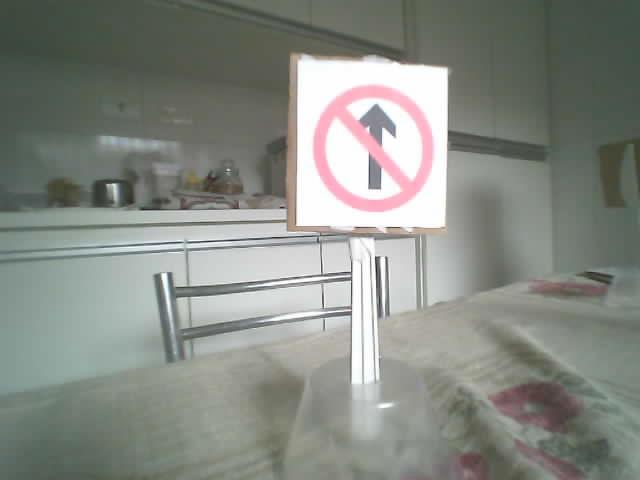R-3_sentido-proibido: (312, 82, 435, 212)
